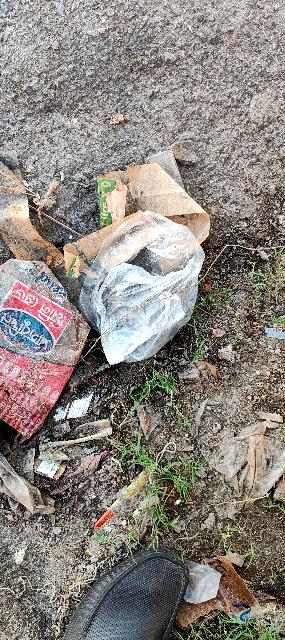polythene: (26, 186, 238, 390)
